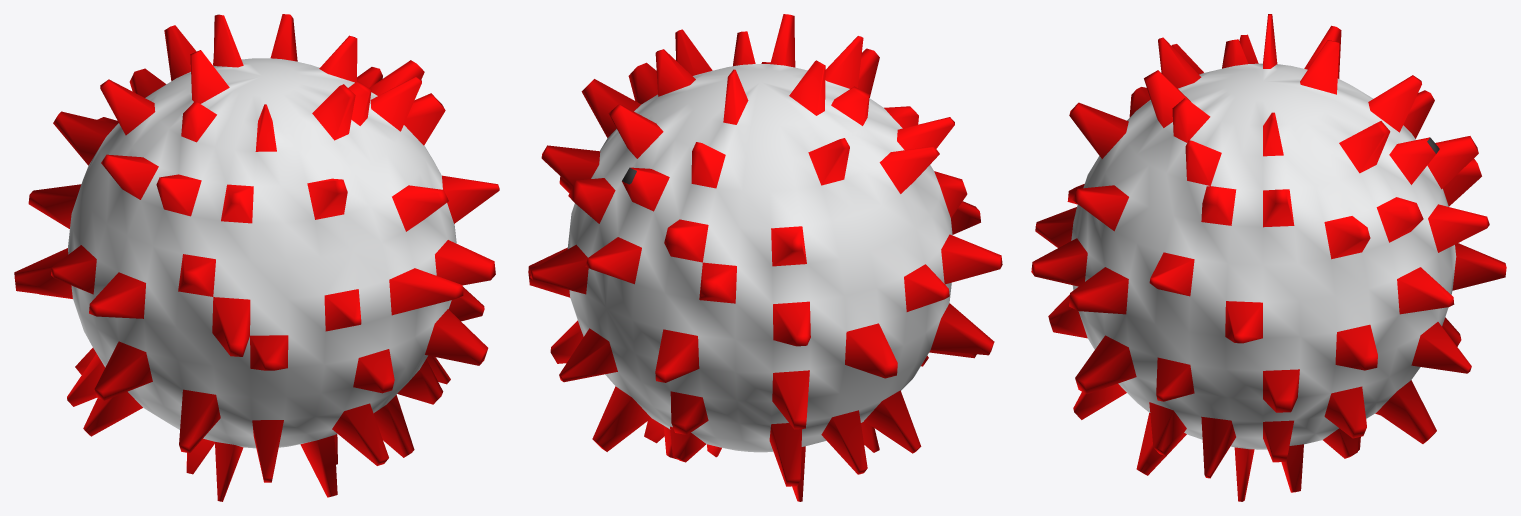
The model's file is obstaculo.fbx.
3 renders of one model, left to right at view 1: azimuth 30°, elevation 25°; view 2: azimuth 150°, elevation 25°; view 3: azimuth 270°, elevation 25°, orthographic.
Visible parts, largest first — view 1: Sphere; view 2: Sphere; view 3: Sphere.
Part boxes in pixels (x1,y1,x2,y2): Sphere: (14,14,499,501); Sphere: (528,14,1002,501); Sphere: (1031,14,1506,501).
Size of the model in its own units: 2.48 by 2.46 by 2.46.
